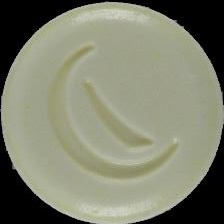45963-635: (0, 0, 224, 224)
